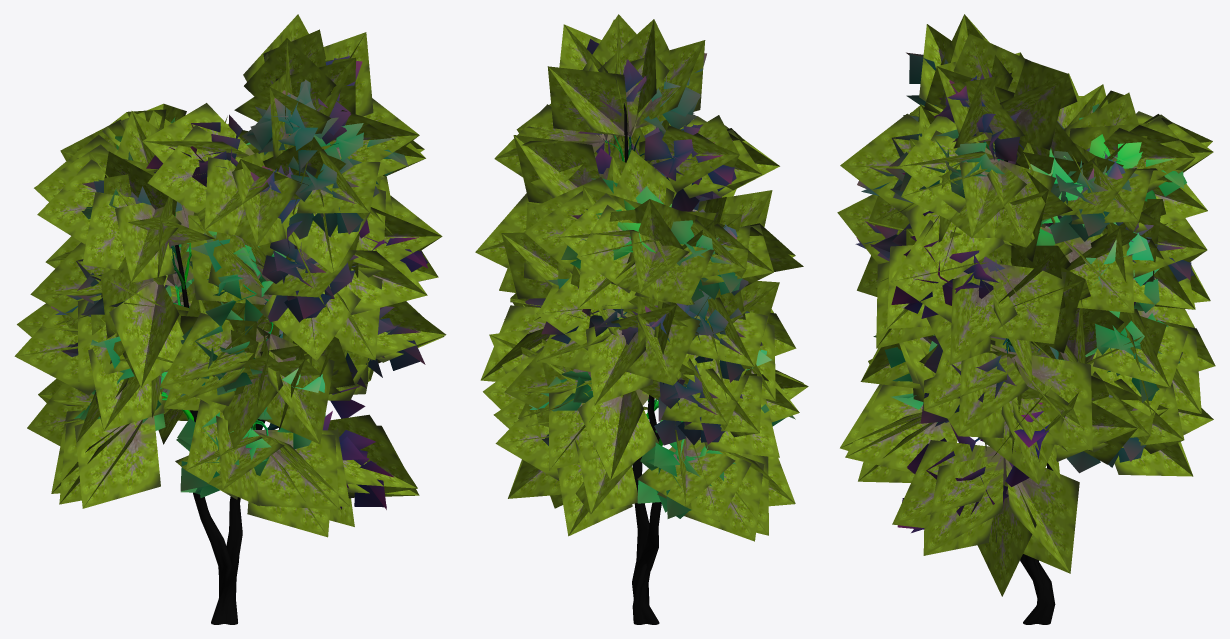
Rendered from Gen02_04Elm01b.fbx.
The picture shows the model from 3 angles, left to right: view 1: azimuth 30°, elevation 25°; view 2: azimuth 150°, elevation 25°; view 3: azimuth 270°, elevation 25°; orthographic projection. The views are drawn at different scales.
Visible parts, largest first — view 1: Tree_1, Tree_2, Tree_0; view 2: Tree_1, Tree_2, Tree_0; view 3: Tree_1, Tree_2, Tree_0.
Part boxes in pixels (x1,y1,x2,y2): Tree_1: [14, 14, 446, 537]; Tree_2: [51, 56, 428, 509]; Tree_0: [161, 118, 348, 624]; Tree_1: [475, 14, 808, 541]; Tree_2: [525, 39, 795, 518]; Tree_0: [605, 103, 706, 624]; Tree_1: [837, 14, 1215, 596]; Tree_2: [855, 48, 1193, 532]; Tree_0: [975, 133, 1119, 624].
Size of the model in its own units: 73.25 by 122 by 67.2.
